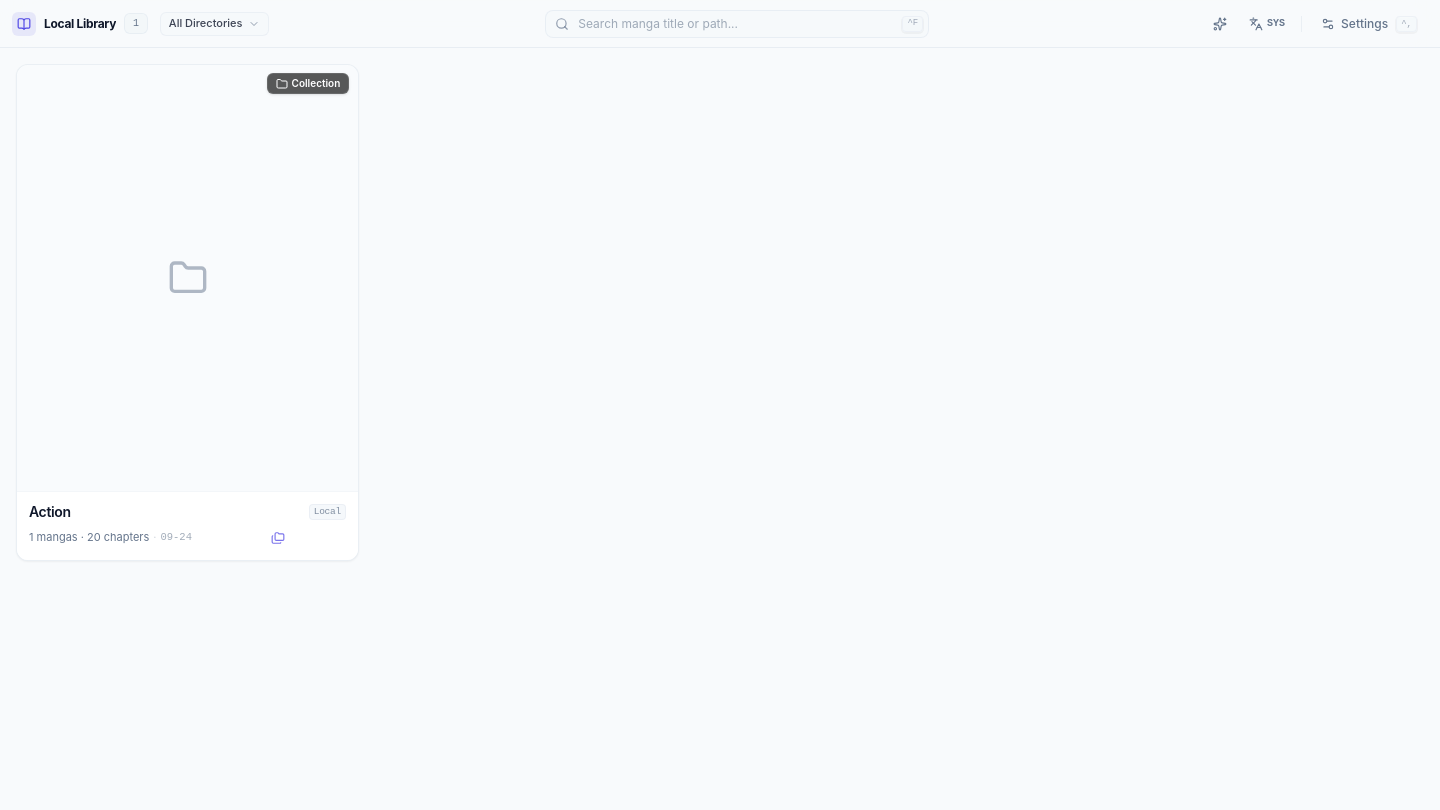
it: App Collection View in Duplicate Merge Mode › isolates source children in separate mode
The width and height of the screenshot is (1440, 810).
// Click on Action collection (sourceID: src-local)
Click the heading "Action": (50, 512) x1=29 y1=503 x2=71 y2=520
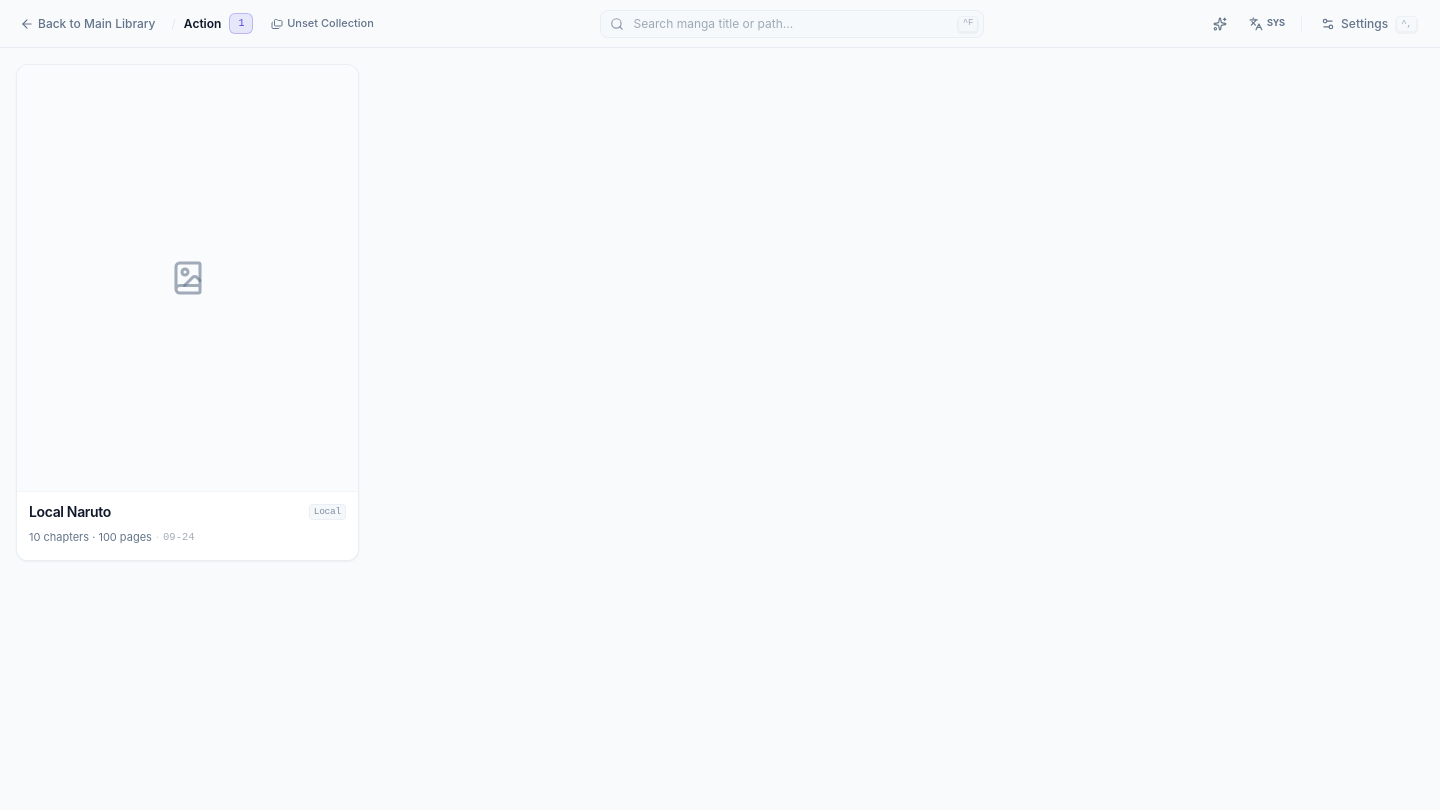
Expected: the heading "Local Naruto" is shown, x1=29 y1=503 x2=111 y2=520
